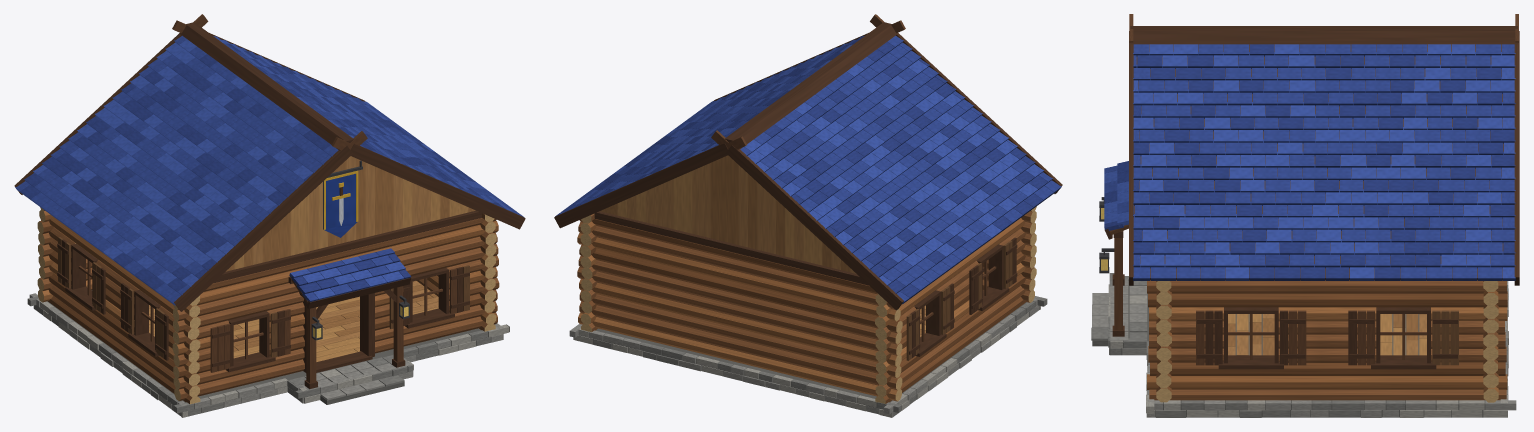
The model's file is SwordShop.fbx.
The picture shows the model from 3 angles, left to right: view 1: azimuth 30°, elevation 25°; view 2: azimuth 150°, elevation 25°; view 3: azimuth 270°, elevation 25°; orthographic projection. The views are drawn at different scales.
Parts seen in each view (by area): view 1: Roof_Left, Wall_Front, Gable_Front, Roof_Trim, Foundation, Wall_Left, Roof_Right, Trim, Awning, Shutters, Floor, Banner (+2 smaller); view 2: Roof_Left, Wall_Back, Gable_Back, Roof_Trim, Foundation, Wall_Left, Roof_Right, Shutters, Trim, Wall_Right, Wall_Front; view 3: Roof_Right, Wall_Right, Foundation, Roof_Trim, Shutters, Trim, Floor, Awning, Wall_Back, Wall_Front, Lanterns.
Part boxes in pixels (x1,y1,x2,y2): Roof_Left: (15, 35, 338, 305); Wall_Front: (172, 218, 499, 400); Gable_Front: (213, 156, 481, 283); Roof_Trim: (14, 14, 525, 311); Foundation: (27, 290, 509, 417); Wall_Left: (48, 217, 200, 404); Roof_Right: (213, 36, 524, 217); Trim: (65, 243, 454, 372); Awning: (288, 248, 411, 389); Shutters: (57, 237, 469, 372); Floor: (149, 280, 438, 372); Banner: (323, 160, 362, 237); Roof_Left: (740, 35, 1061, 304); Wall_Back: (577, 219, 902, 401); Gable_Back: (594, 155, 868, 285); Roof_Trim: (554, 14, 1062, 310); Foundation: (569, 296, 1047, 417); Wall_Left: (875, 218, 1026, 403); Roof_Right: (555, 36, 864, 216); Shutters: (906, 237, 1017, 360); Trim: (914, 244, 1009, 356); Wall_Right: (580, 213, 597, 332); Wall_Front: (982, 206, 1036, 302); Roof_Right: (1133, 44, 1515, 280); Wall_Right: (1147, 280, 1507, 400); Foundation: (1091, 273, 1516, 417); Roof_Trim: (1129, 14, 1519, 285); Shutters: (1196, 310, 1458, 365); Trim: (1218, 307, 1436, 369); Floor: (1228, 314, 1426, 355); Awning: (1104, 161, 1128, 336); Wall_Back: (1483, 281, 1498, 402); Wall_Front: (1156, 281, 1171, 402); Lanterns: (1099, 197, 1114, 273).
Size of the model in its own units: 45.11 by 30.59 by 39.34.
1 material, 1 textured.
